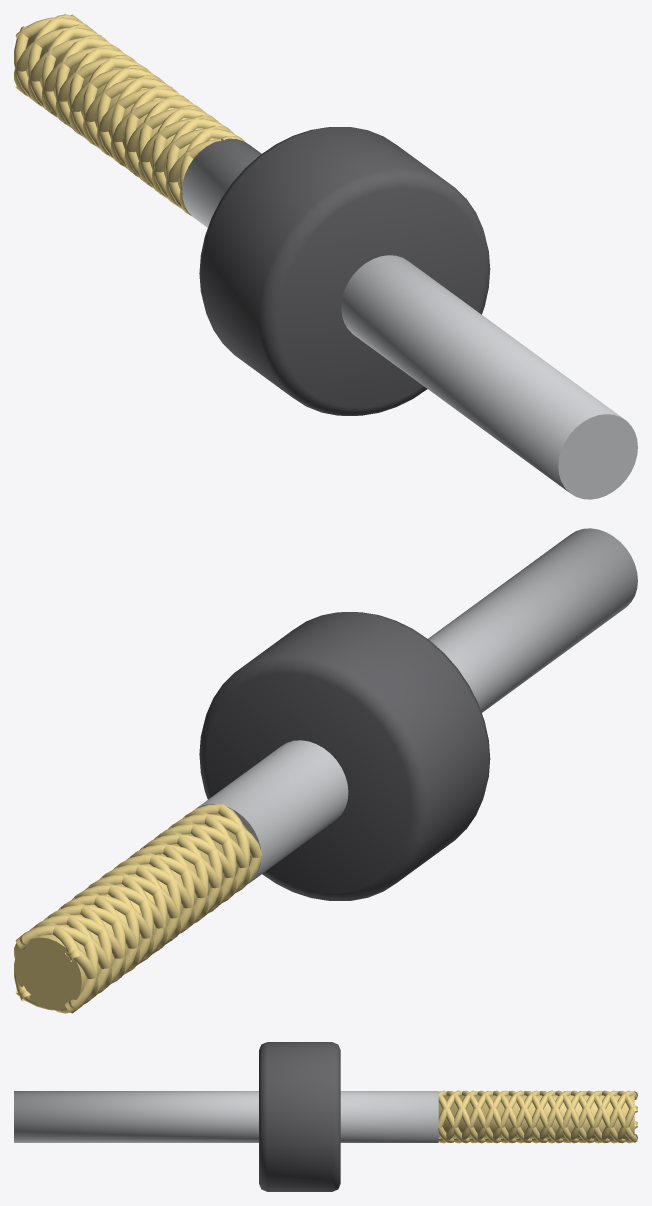
File: corn18_3p175.glb
3 views of the same model, one above another, from view 1: azimuth 30°, elevation 25°; view 2: azimuth 150°, elevation 25°; view 3: azimuth 270°, elevation 25° (orthographic). The views are drawn at different scales.
Parts seen in each view (by area): view 1: Cylinder.002, Cylinder.001, flute.002, flute.005, flute.004, flute.003, flute.007, flute.001, flute.006, flute, Cylinder; view 2: Cylinder.002, Cylinder.001, Cylinder, flute.004, flute.003, flute.005, flute.002, flute.001, flute.006, flute.007, flute; view 3: Cylinder.001, Cylinder.002, Cylinder, flute, flute.001, flute.003, flute.002, flute.006, flute.004, flute.007, flute.005.
Part boxes in pixels (x1,y1,x2,y2): Cylinder.002: (199,127,490,415); Cylinder.001: (182,138,637,499); flute.002: (15,17,221,203); flute.005: (14,26,230,190); flute.004: (14,27,220,214); flute.003: (28,14,245,198); flute.007: (15,34,216,216); flute.001: (41,24,202,208); flute.006: (28,38,233,184); flute: (41,14,246,194); Cylinder: (25,27,218,189); Cylinder.002: (199,612,490,900); Cylinder.001: (194,528,637,883); Cylinder: (14,813,252,1009); flute.004: (47,831,262,1013); flute.003: (15,804,222,989); flute.005: (58,813,262,999); flute.002: (34,804,250,983); flute.001: (14,834,236,1001); flute.006: (15,821,222,1010); flute.007: (43,823,250,1013); flute: (14,811,236,993); Cylinder.001: (14,1091,438,1142); Cylinder.002: (259,1042,340,1191); Cylinder: (438,1095,634,1138); flute: (438,1090,637,1143); flute.001: (438,1090,637,1143); flute.003: (438,1090,637,1143); flute.002: (438,1090,637,1143); flute.006: (438,1090,637,1143); flute.004: (454,1090,637,1143); flute.007: (462,1090,637,1143); flute.005: (446,1090,637,1143).
Size of the model in its own units: 0.00917 by 0.00917 by 0.0382.
